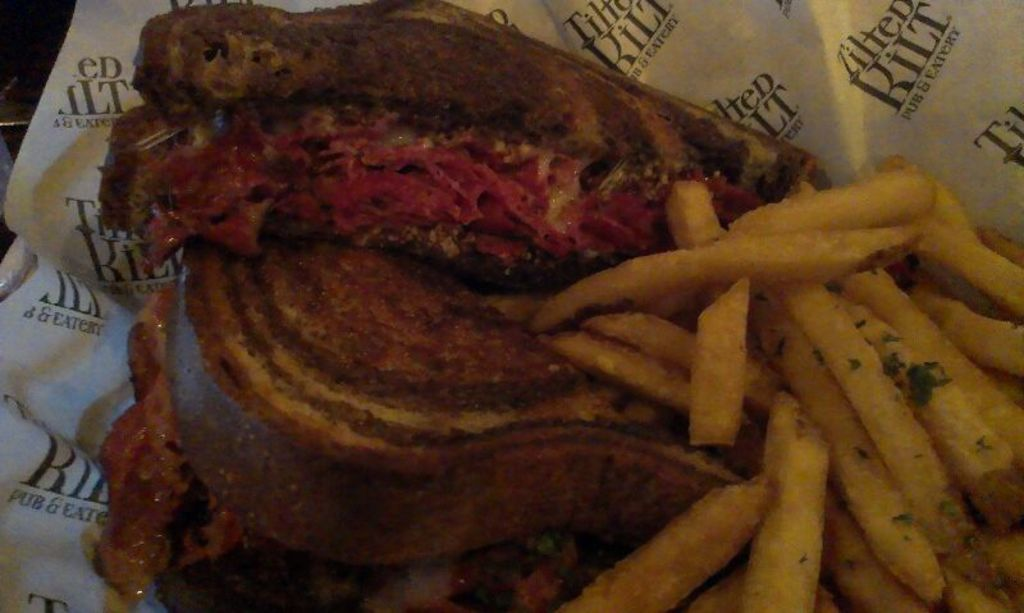French fries: (477, 158, 1022, 611)
